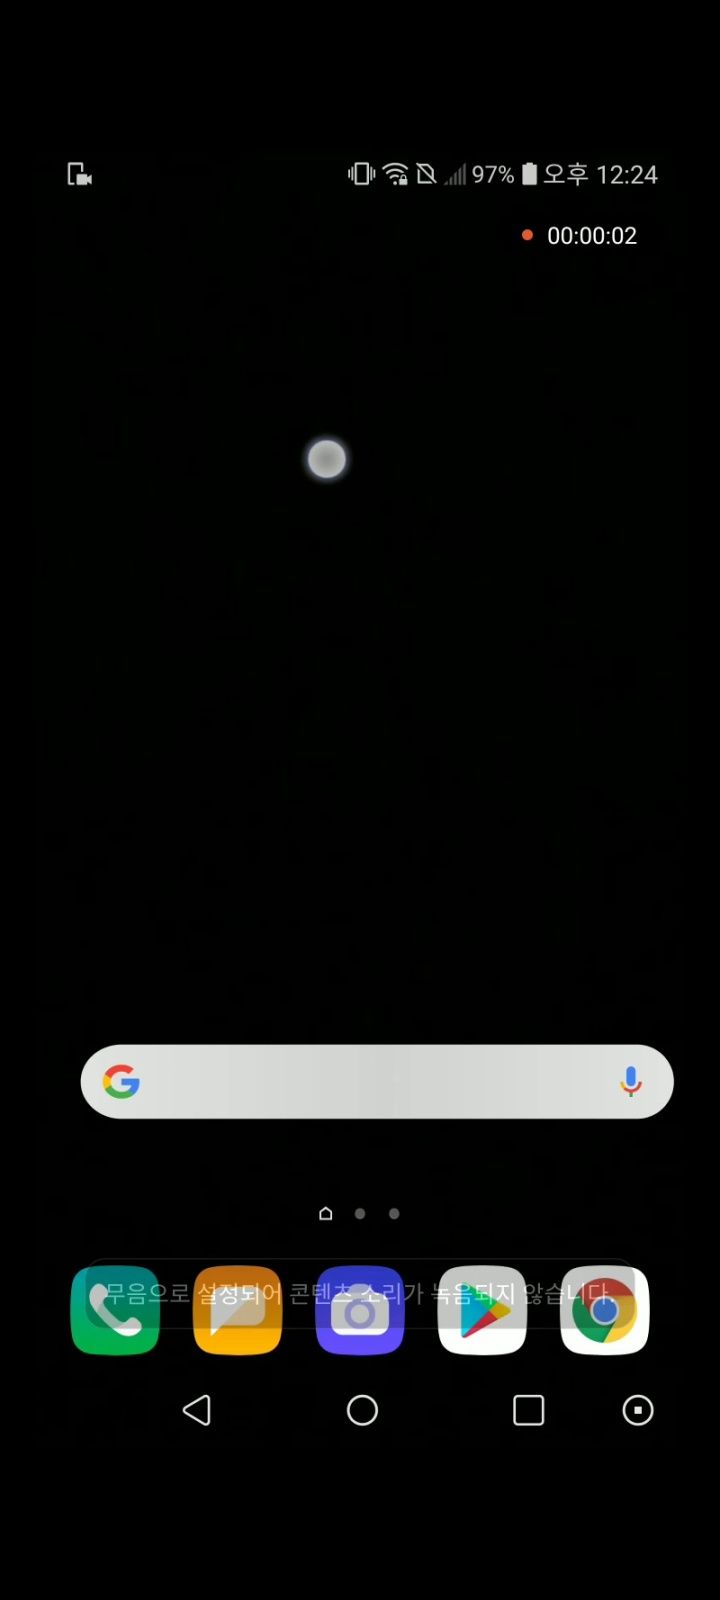Cursor: (306, 439, 351, 484)
